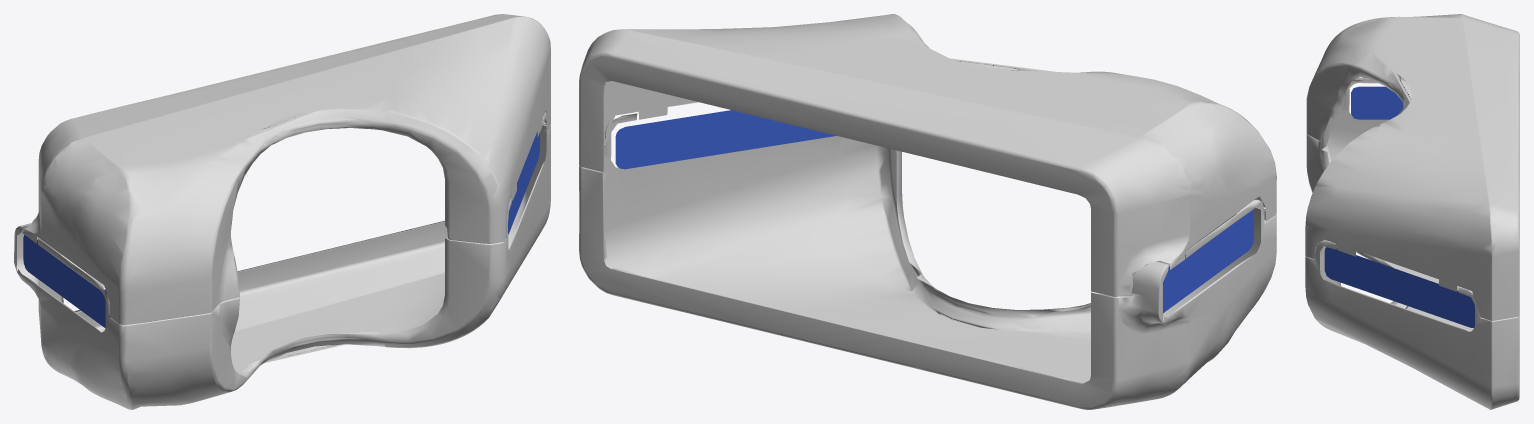
File: sim_ecub_1-1_l_ankle_2.obj
3 views of the same model, side by side, from view 1: azimuth 30°, elevation 25°; view 2: azimuth 150°, elevation 25°; view 3: azimuth 270°, elevation 25° (orthographic). The views are drawn at different scales.
Size of the model in its own units: 259 by 111 by 106.
